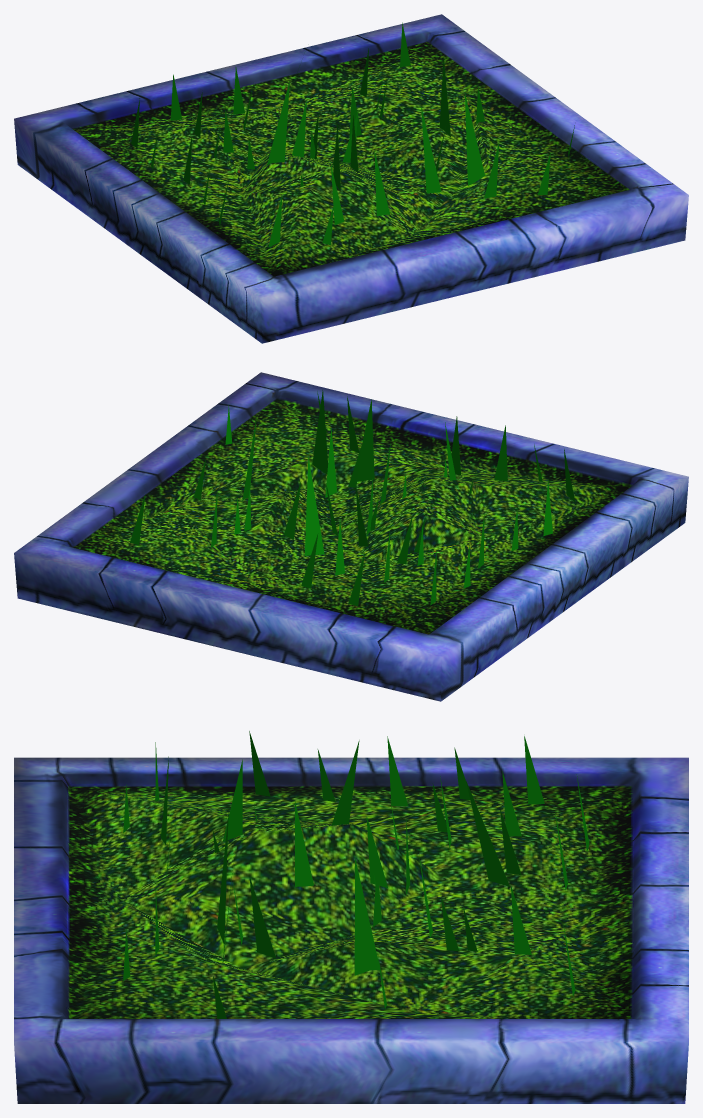
Rendered from Grass1.FBX.
The picture shows the model from 3 angles, top to bottom: view 1: azimuth 30°, elevation 25°; view 2: azimuth 150°, elevation 25°; view 3: azimuth 270°, elevation 25°; orthographic projection. The views are drawn at different scales.
Parts seen in each view (by area): view 1: Object007, Plane006; view 2: Object007, Plane006; view 3: Object007, Plane006.
Boxes of the visible parts, box(x1,y1,x2,y2) form: Object007: box(14, 14, 688, 343); Plane006: box(131, 22, 574, 247); Object007: box(14, 372, 688, 701); Plane006: box(130, 390, 575, 606); Object007: box(14, 757, 688, 1103); Plane006: box(123, 731, 589, 1018).
Bounding box in the file's own units: 11.63 × 3.86 × 11.63.
